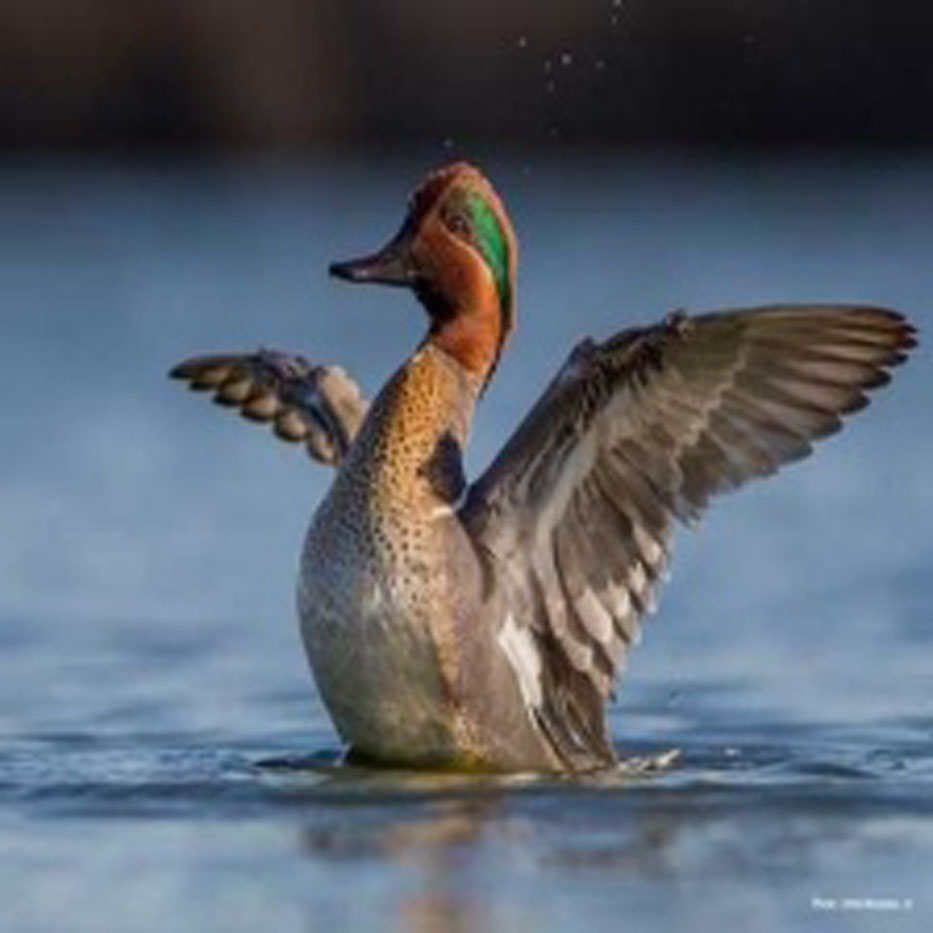Mencari Makan di Lumpur: (321, 218, 426, 307)
